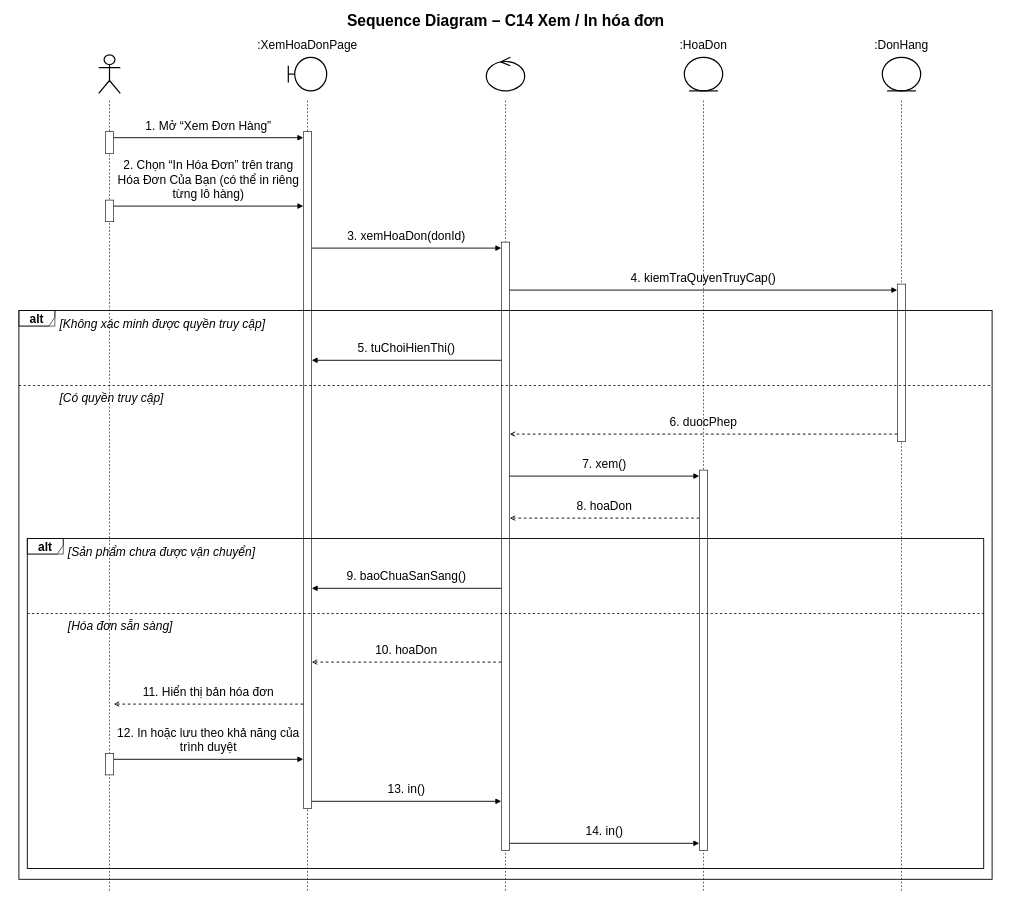
Some shapes in this 1010 by 902 pixel diagram are drawn without their labels. Each missing label, with the centre of its shape:
":Khách hàng" belongs at pixel 109 74.
":XemHoaDonController" belongs at pixel 505 73.
